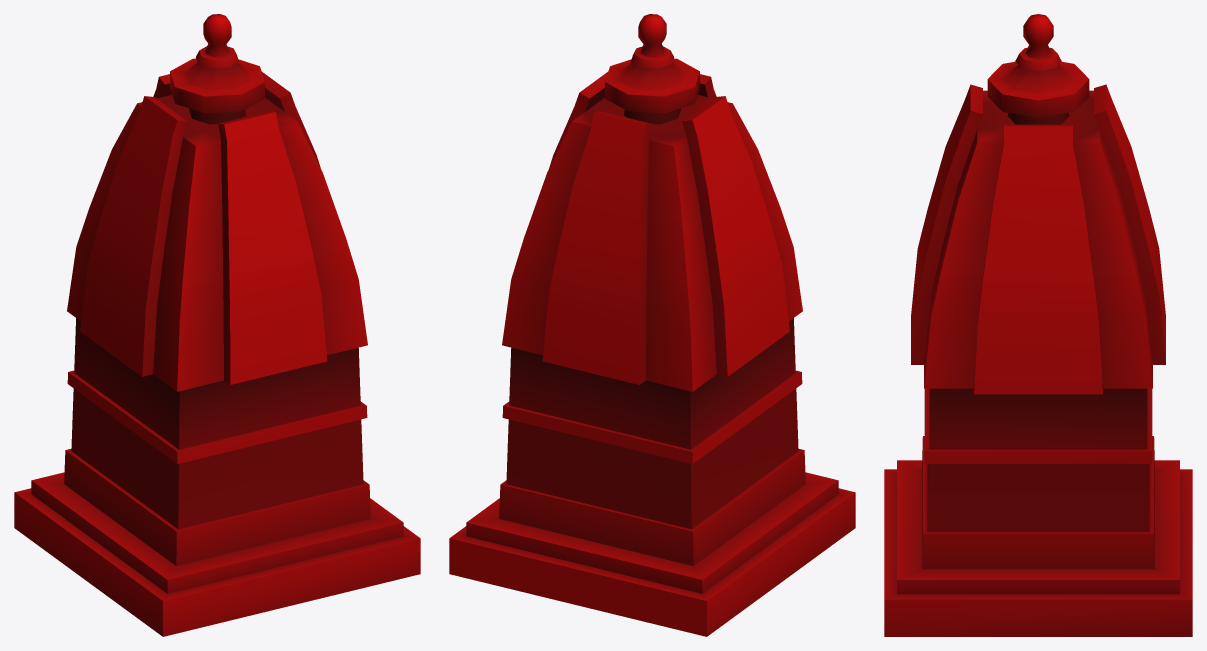
File: buildings-ruins-templeruins_v11.fbx
The picture shows the model from 3 angles, left to right: view 1: azimuth 30°, elevation 25°; view 2: azimuth 150°, elevation 25°; view 3: azimuth 270°, elevation 25°; orthographic projection. The views are drawn at different scales.
Visible parts, largest first — view 1: TempleRuins_v11; view 2: TempleRuins_v11; view 3: TempleRuins_v11.
Part boxes in pixels (left/top/right/bottom): TempleRuins_v11: left=14, top=14, right=420, bottom=636; TempleRuins_v11: left=449, top=14, right=855, bottom=636; TempleRuins_v11: left=884, top=14, right=1192, bottom=636.
Bounding box in the file's own units: 6.11 × 12.14 × 6.11.
